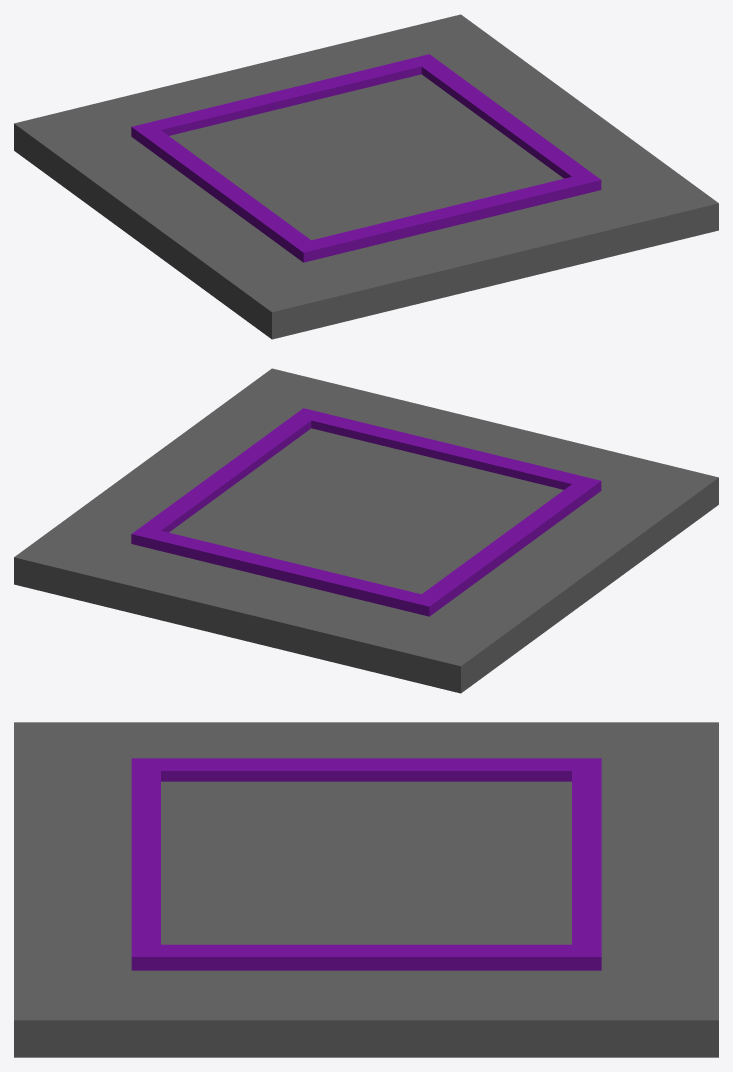
File: pressureplate.fbx
The picture shows the model from 3 angles, top to bottom: view 1: azimuth 30°, elevation 25°; view 2: azimuth 150°, elevation 25°; view 3: azimuth 270°, elevation 25°; orthographic projection. The views are drawn at different scales.
Visible parts, largest first — view 1: pasted__landtile; view 2: pasted__landtile; view 3: pasted__landtile.
Part boxes in pixels (x1,y1,x2,y2): pasted__landtile: (14, 14, 718, 339); pasted__landtile: (14, 368, 718, 693); pasted__landtile: (14, 722, 718, 1057).
Bounding box in the file's own units: 5 × 0.3974 × 5.
